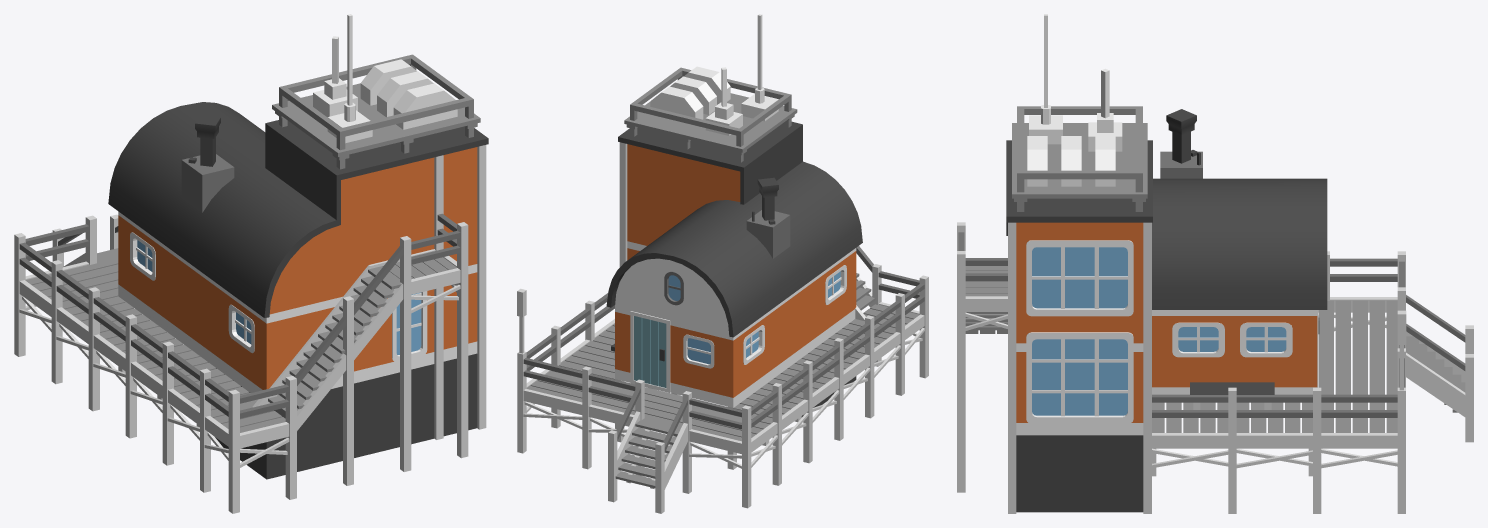
The model's file is Weather Station.fbx.
3 renders of one model, left to right at view 1: azimuth 30°, elevation 25°; view 2: azimuth 150°, elevation 25°; view 3: azimuth 270°, elevation 25°, orthographic. The views are drawn at different scales.
Parts seen in each view (by area): view 1: Weather Station, Porch, Windows, Furniture; view 2: Weather Station, Porch, Windows, Door, Furniture; view 3: Weather Station, Porch, Windows, Furniture, Bench.
Boxes of the visible parts, x1,y1,x2,y2 form: Weather Station: [108, 14, 488, 479]; Porch: [14, 100, 486, 513]; Windows: [130, 232, 427, 361]; Furniture: [181, 115, 234, 212]; Weather Station: [606, 14, 862, 417]; Porch: [517, 142, 928, 513]; Windows: [664, 265, 846, 368]; Door: [634, 316, 666, 387]; Furniture: [746, 177, 790, 258]; Weather Station: [1006, 14, 1327, 512]; Porch: [957, 222, 1473, 513]; Windows: [1026, 240, 1292, 423]; Furniture: [1160, 109, 1202, 178]; Bench: [1190, 382, 1274, 409].
Size of the model in its own units: 1960 by 2865 by 3050.
